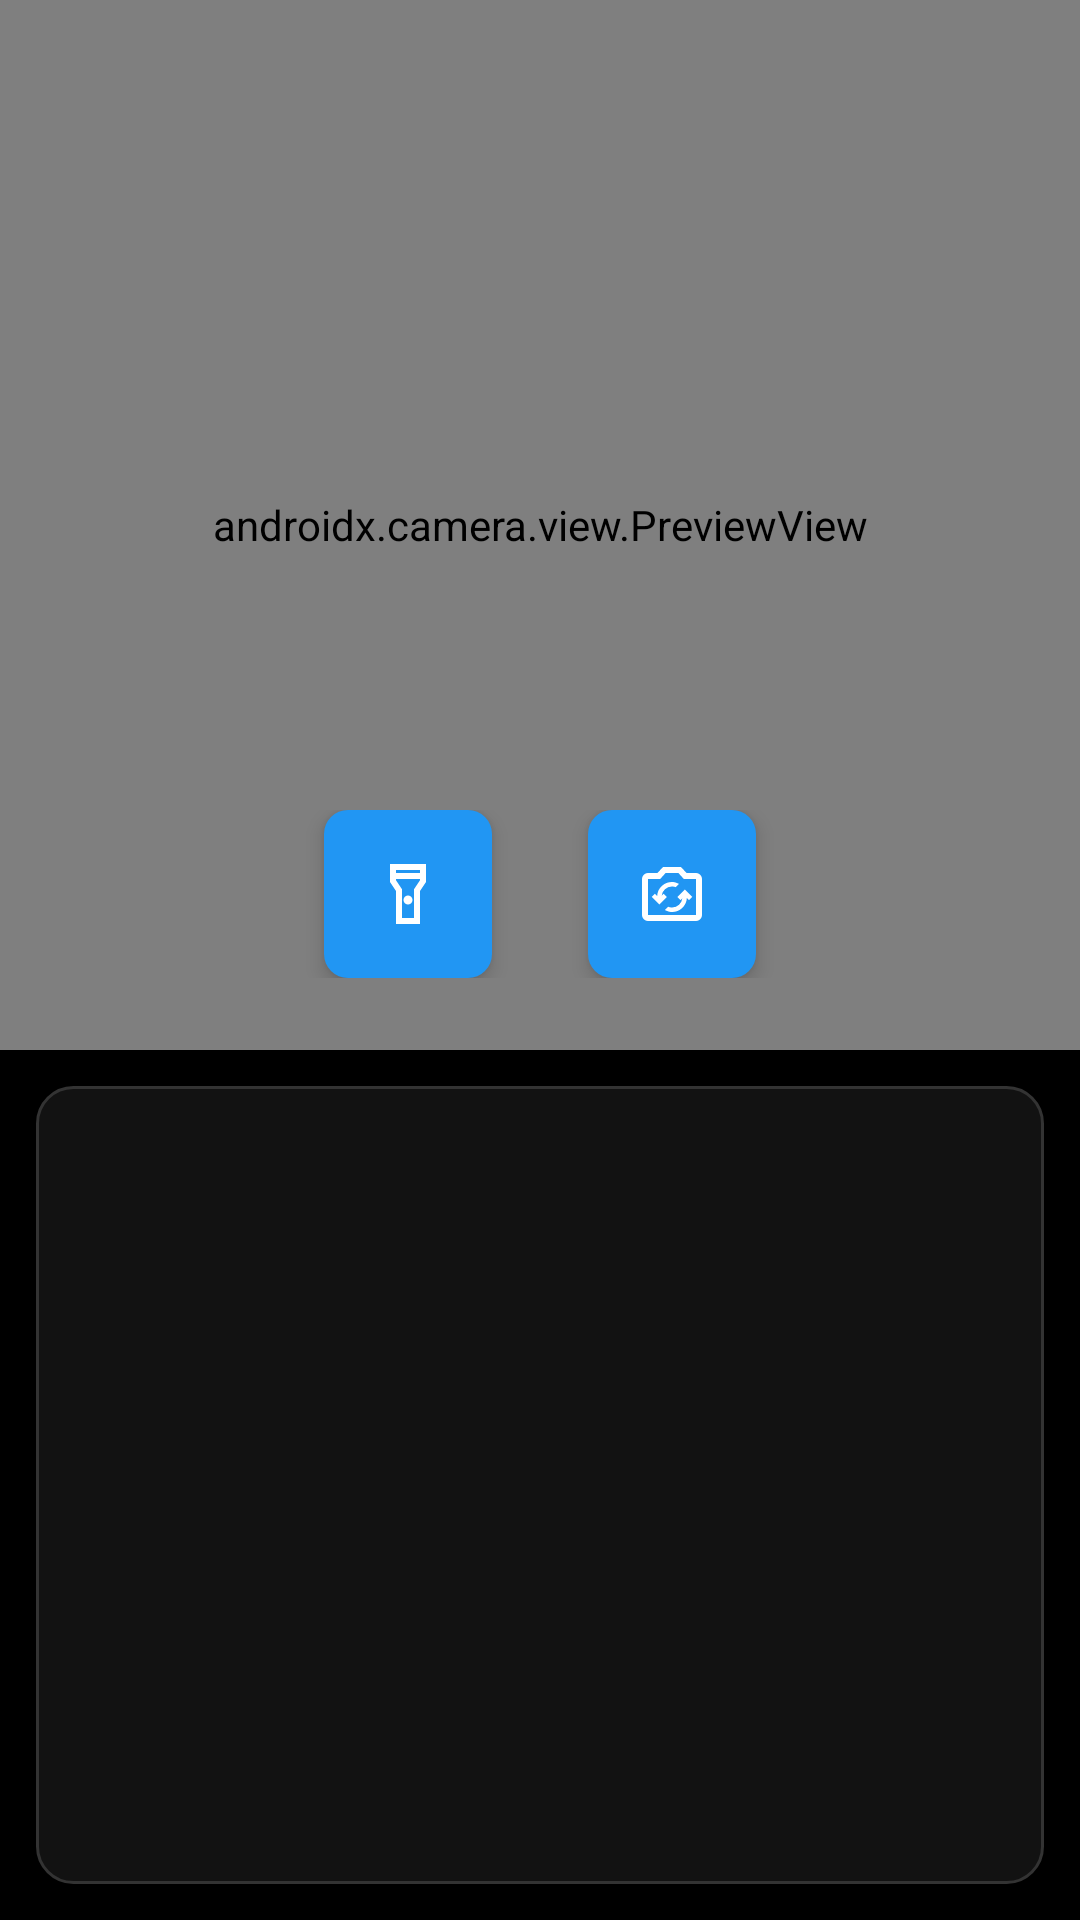

Point at icon controls on the screen. Image size 1080 x 1920, points as (x=x, y=y).
Toggle Camera: (x=672, y=894)
Toggle Flashlight: (x=408, y=894)
